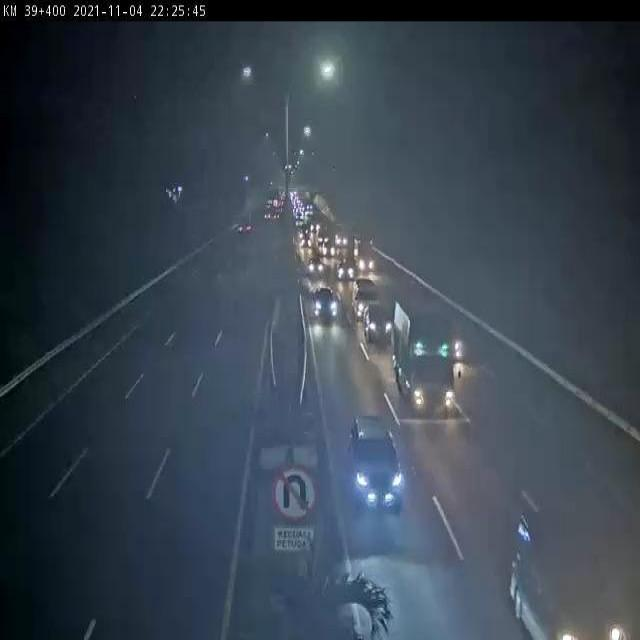bus-s-: (351, 276, 380, 323)
car: (348, 414, 407, 514), (362, 300, 391, 344), (309, 284, 339, 324), (335, 258, 356, 282), (307, 256, 326, 277)
truck-m-: (392, 298, 457, 414)
